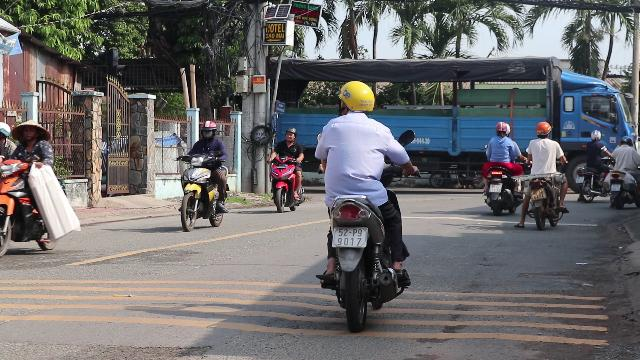helmet: (337, 80, 377, 116), (200, 120, 217, 138), (535, 121, 551, 138), (284, 127, 296, 142)
licenseplate: (332, 228, 366, 246), (530, 189, 546, 199)
motorcyclist: (310, 78, 418, 328), (0, 118, 82, 264), (176, 119, 232, 231), (519, 120, 569, 228), (267, 126, 305, 212)
nohelmet: (12, 118, 50, 148)
